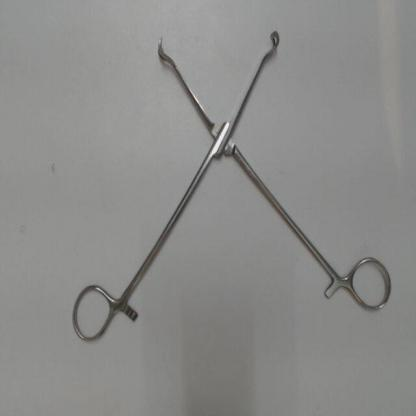8 Babcock Tissue Forceps: (67, 24, 398, 348)
